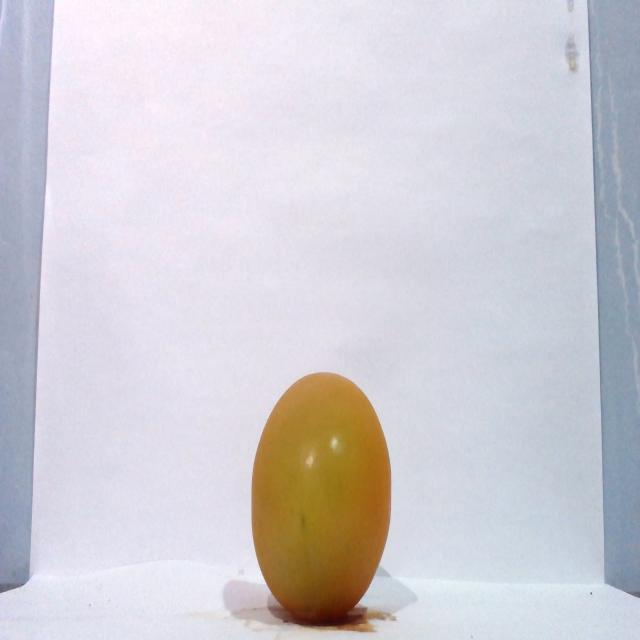Red: (249, 370, 392, 623)
